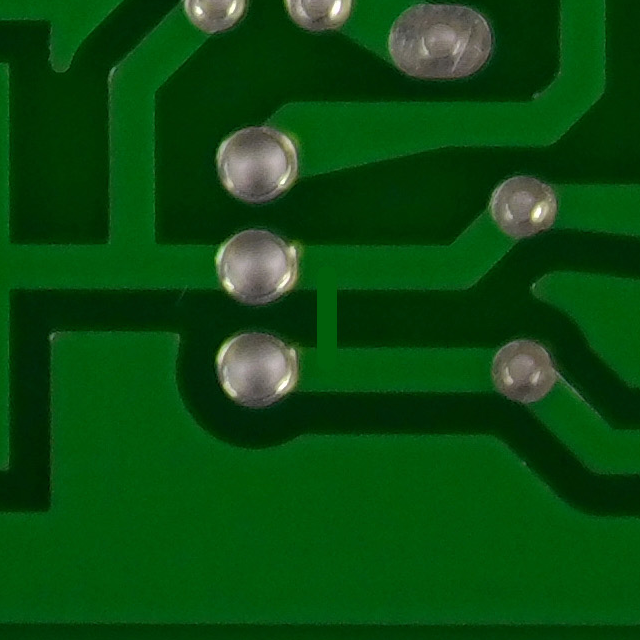short: (259, 240, 381, 400)
